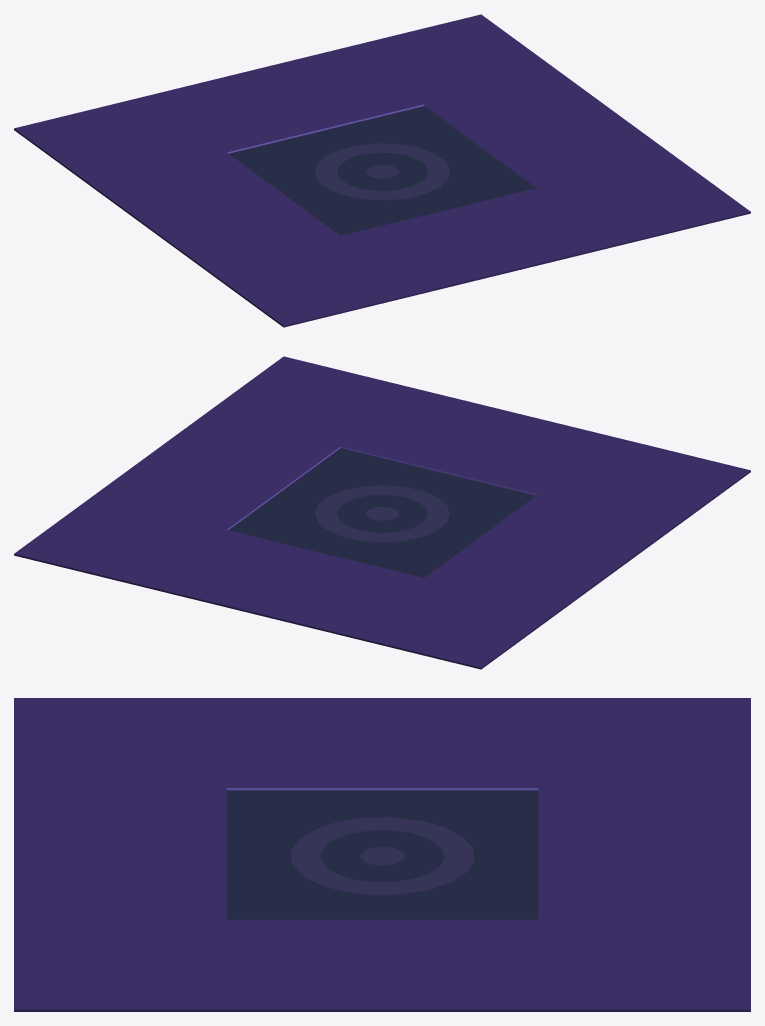
The model's file is Night_Plane.fbx.
3 renders of one model, top to bottom at view 1: azimuth 30°, elevation 25°; view 2: azimuth 150°, elevation 25°; view 3: azimuth 270°, elevation 25°, orthographic. The views are drawn at different scales.
Visible parts, largest first — view 1: 1_Night_Plane; view 2: 1_Night_Plane; view 3: 1_Night_Plane.
Boxes of the visible parts, x1=… form: 1_Night_Plane: x1=14, y1=14, x2=750, y2=327; 1_Night_Plane: x1=14, y1=356, x2=750, y2=669; 1_Night_Plane: x1=14, y1=698, x2=750, y2=1011.
Size of the model in its own units: 200 by 200 by 0.7101.
